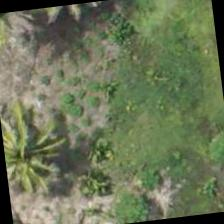Kelapa_Sawit: (0, 102, 71, 200)
